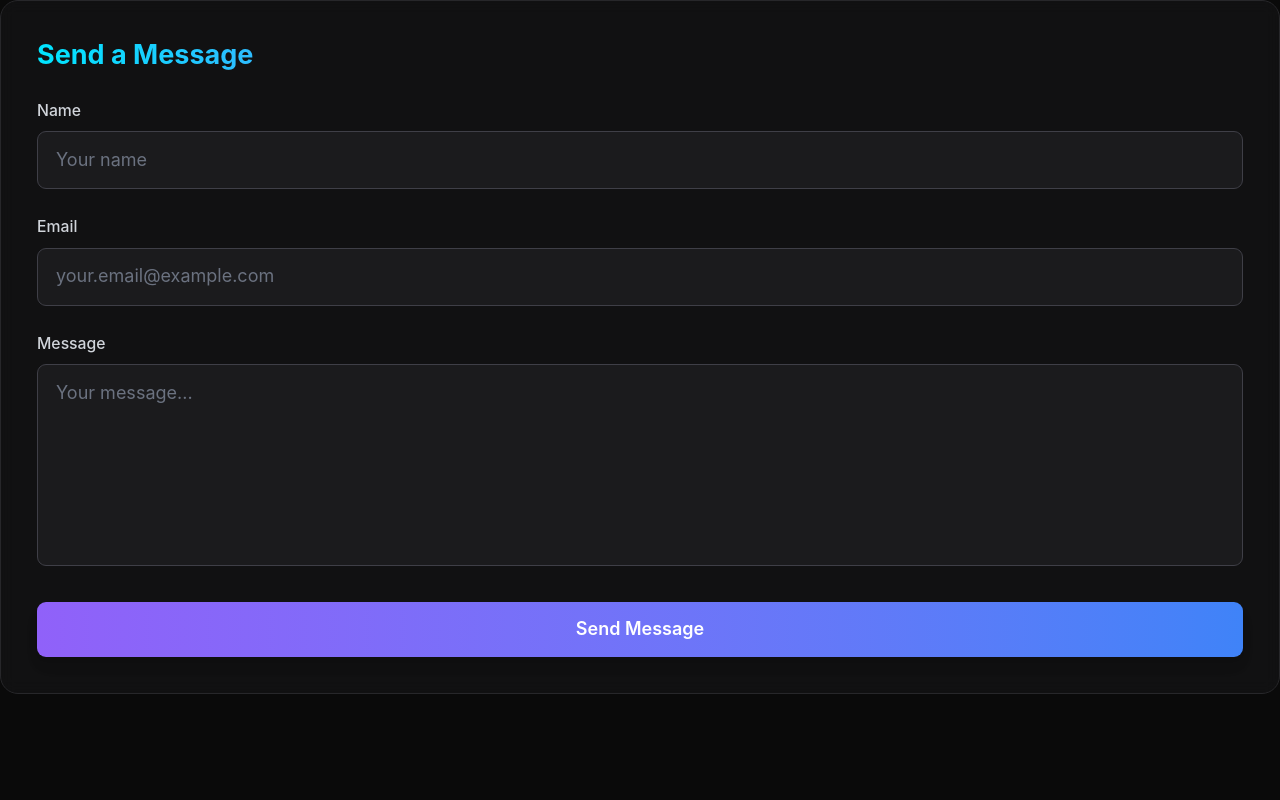
ContactForm › shows error message when API returns not ok
This screenshot has width=1280, height=800.
Type "Chris" into the field labelled "Name" at (640, 160), box [37,132,1243,189]
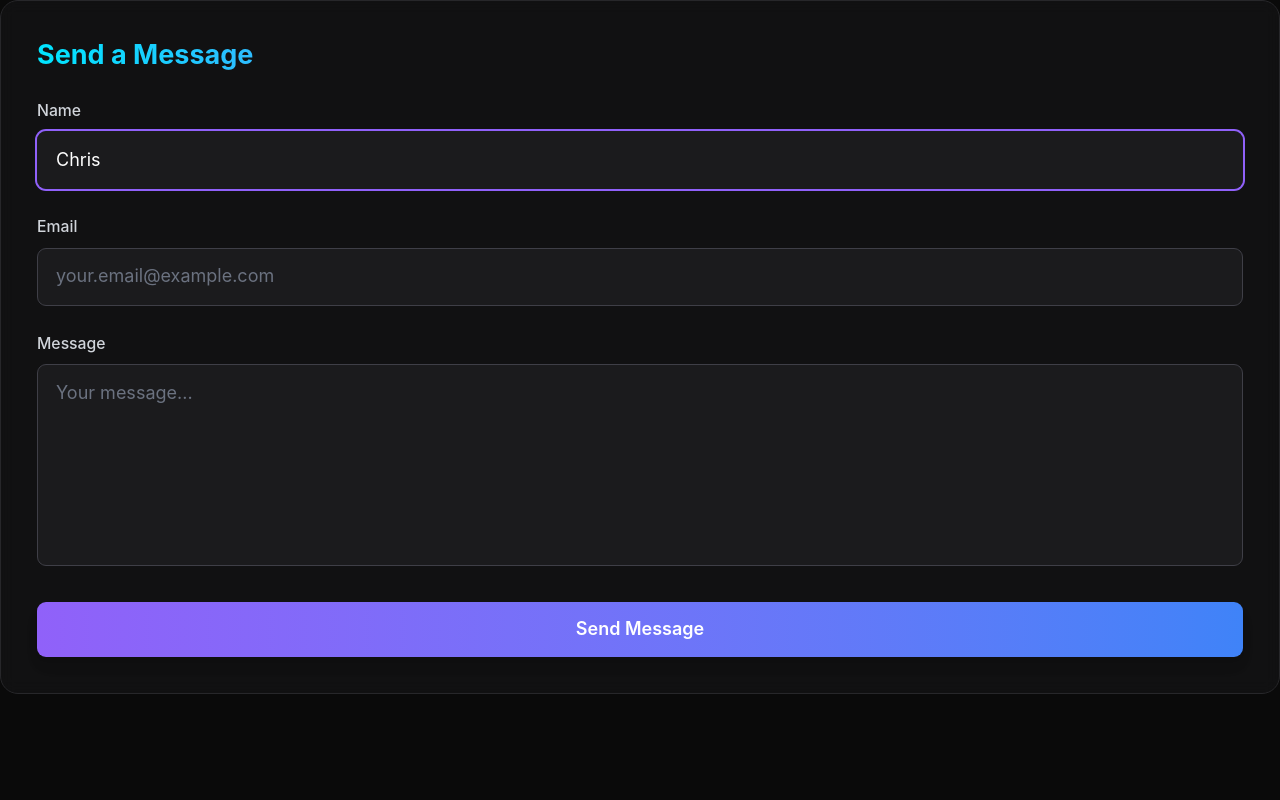
Type "chris@test.com" into the field labelled "Email" at (640, 277), box [37,248,1243,306]
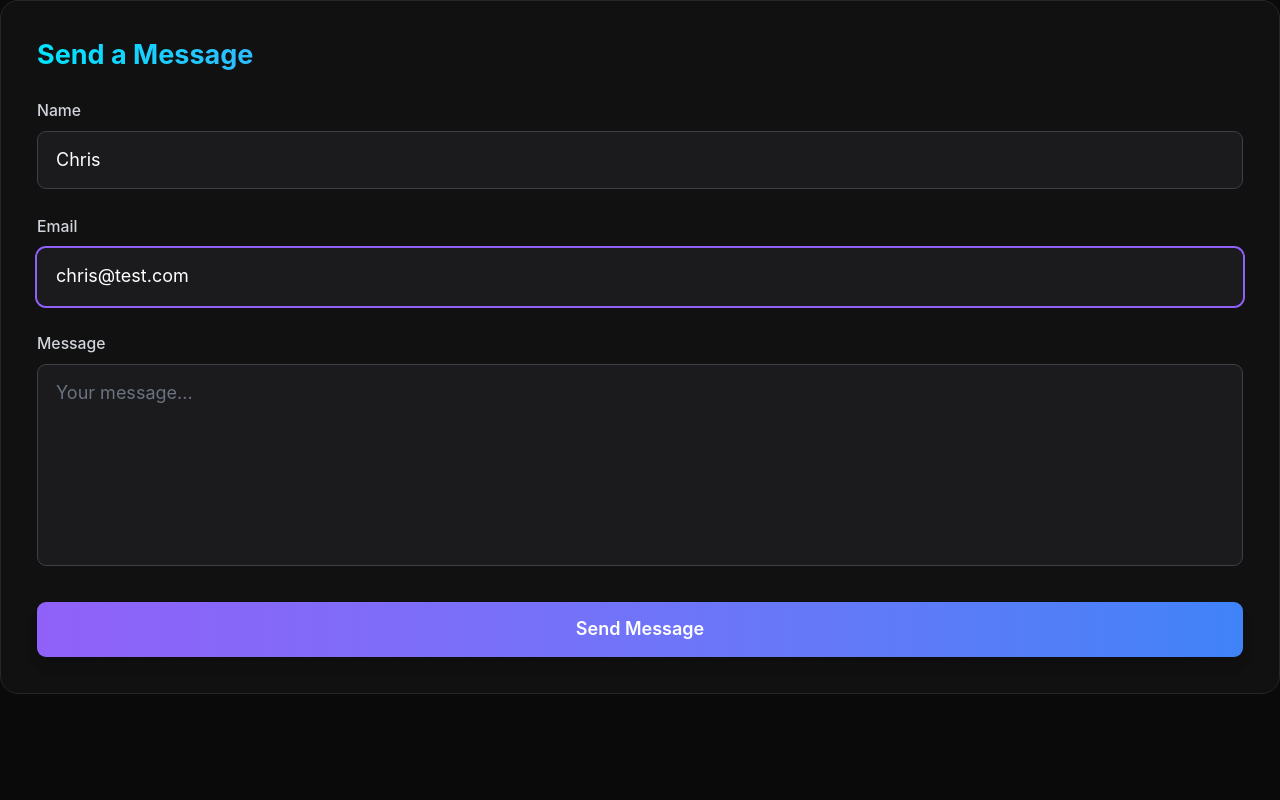
Type "Hello!" into the text box labelled "Message" at (640, 465), box [37,364,1243,566]
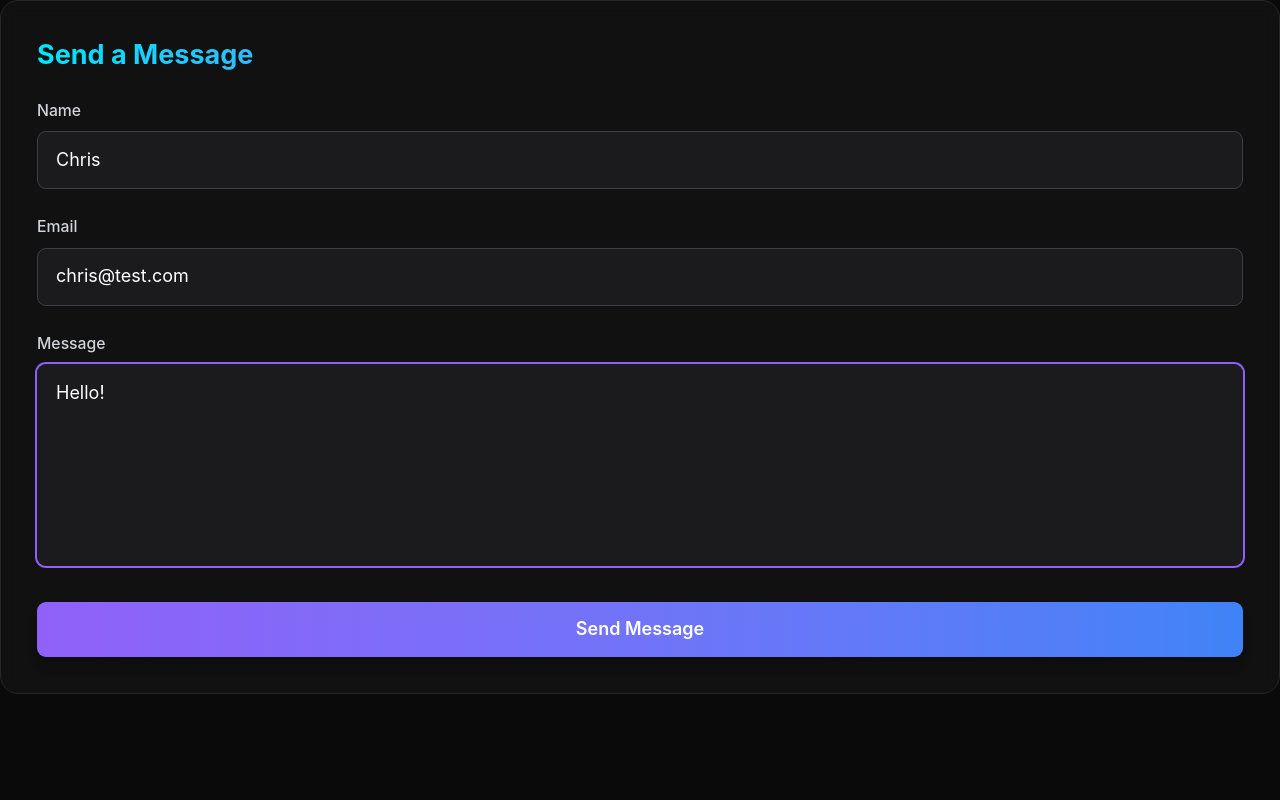
Click the button "Send Message" at (640, 630), box [37,602,1243,658]
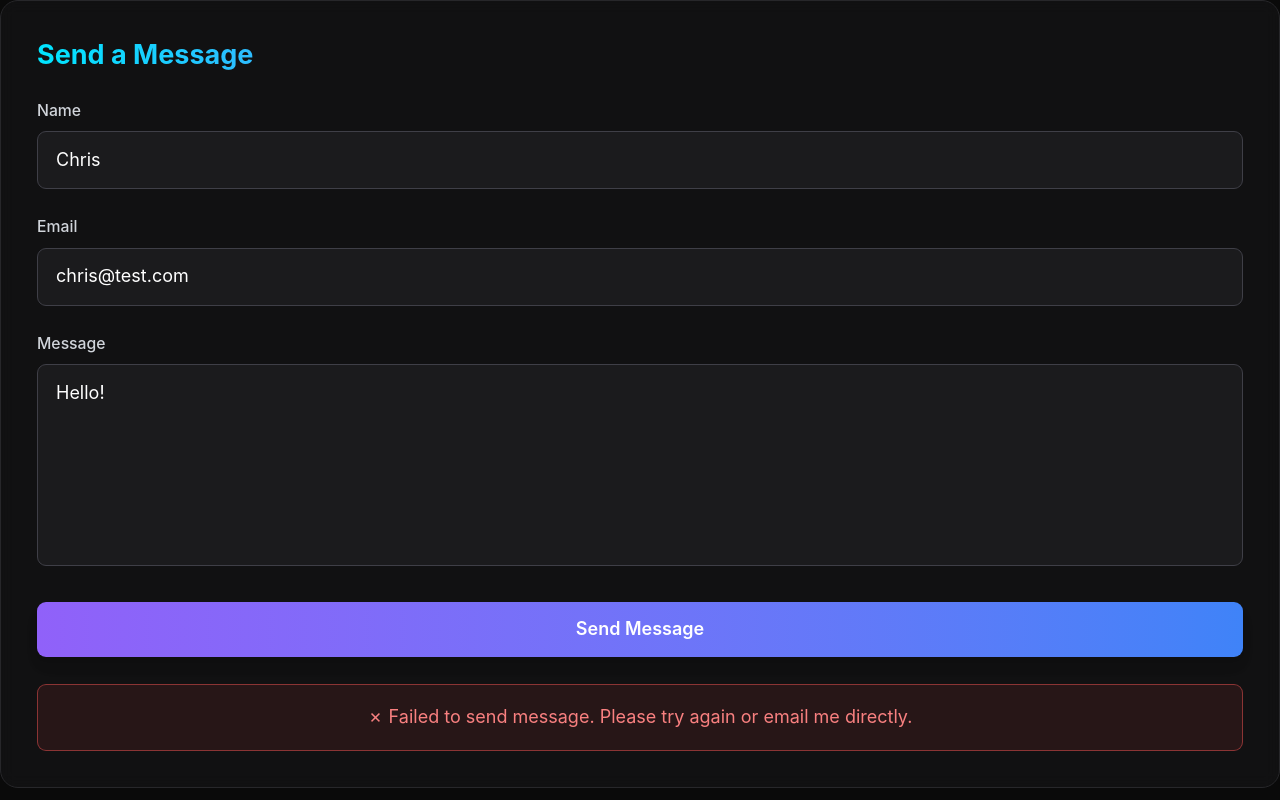
expect the text "Failed to send" is shown: met, box [368,706,912,728]
